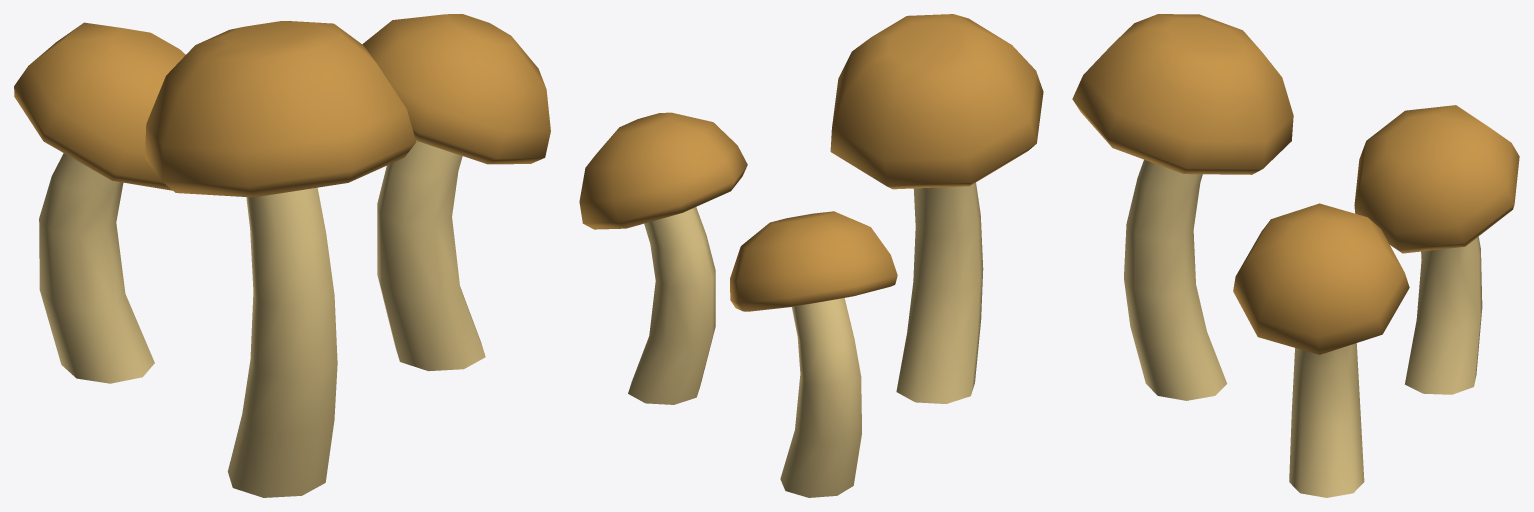
The model's file is mushrooms_1.glb.
3 views of the same model, side by side, from view 1: azimuth 30°, elevation 25°; view 2: azimuth 150°, elevation 25°; view 3: azimuth 270°, elevation 25° (orthographic). The views are drawn at different scales.
Parts seen in each view (by area): view 1: Mushrooms1; view 2: Mushrooms1; view 3: Mushrooms1.
Part boxes in pixels (x1=…): Mushrooms1: x1=14, y1=14, x2=550, y2=497; Mushrooms1: x1=579, y1=14, x2=1043, y2=497; Mushrooms1: x1=1072, y1=14, x2=1519, y2=497.
Bounding box in the file's own units: 0.9382 × 0.8541 × 0.9694.
Materials: 1 (1 with a texture image).
